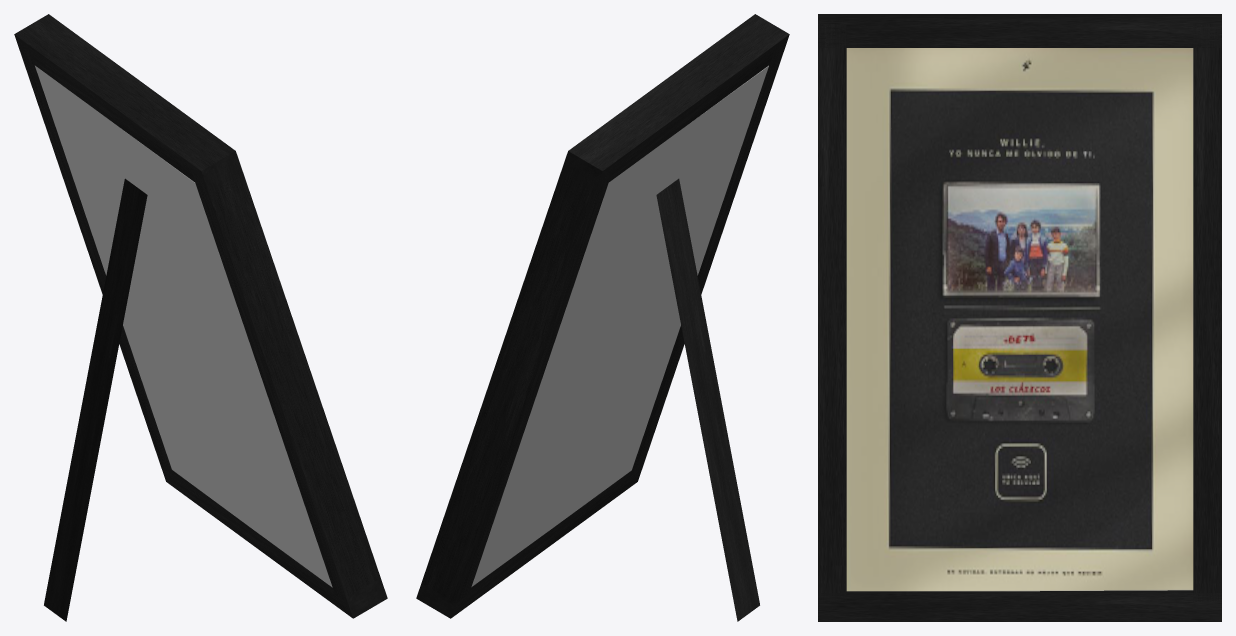
File: portaretratos.glb
The picture shows the model from 3 angles, left to right: view 1: azimuth 30°, elevation 25°; view 2: azimuth 150°, elevation 25°; view 3: azimuth 270°, elevation 25°; orthographic projection. The views are drawn at different scales.
Visible parts, largest first — view 1: estructura, portada; view 2: estructura, portada; view 3: portada, estructura.
Boxes of the visible parts, left/top/right/bottom form: estructura: left=14, top=14, right=387, bottom=621; portada: left=35, top=65, right=332, bottom=587; estructura: left=416, top=14, right=789, bottom=621; portada: left=471, top=65, right=768, bottom=586; portada: left=846, top=48, right=1193, bottom=591; estructura: left=818, top=14, right=1221, bottom=621.
Bounding box in the file's own units: 0.8457 × 1.72 × 1.15.
3 materials, 3 textured.
